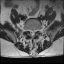CCS_normal: (31, 28, 33, 37)
LFS_normal: (36, 26, 38, 34)
LLS_normal: (33, 28, 35, 35)
RFS_normal: (27, 26, 29, 33)
RLS_normal: (29, 28, 31, 36)
